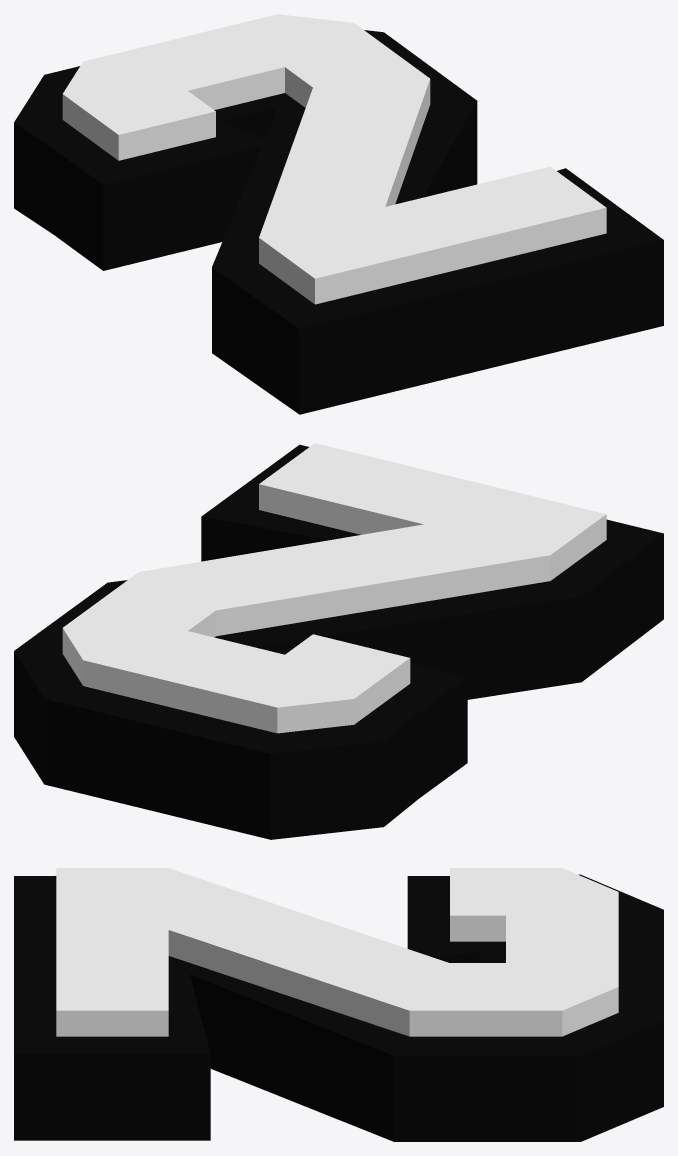
The model's file is txt_2.glb.
3 renders of one model, top to bottom at view 1: azimuth 30°, elevation 25°; view 2: azimuth 150°, elevation 25°; view 3: azimuth 270°, elevation 25°, orthographic.
Parts seen in each view (by area): view 1: 2.001; view 2: 2.001; view 3: 2.001.
Boxes of the visible parts, x1,y1,x2,y2 form: 2.001: (14, 14, 663, 414); 2.001: (14, 443, 663, 839); 2.001: (14, 868, 663, 1141).
Size of the model in its own units: 0.6854 by 0.1978 by 1.04.
Materials: 1 (1 with a texture image).
